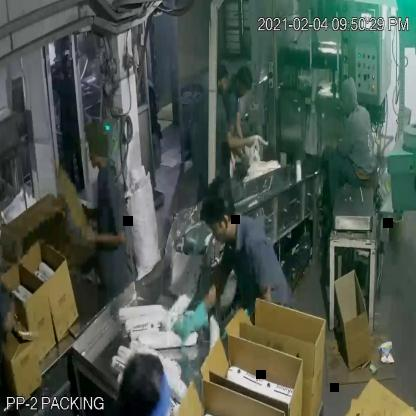glove: (173, 302, 210, 350)
no_glove: (72, 207, 128, 259), (224, 128, 264, 153)
